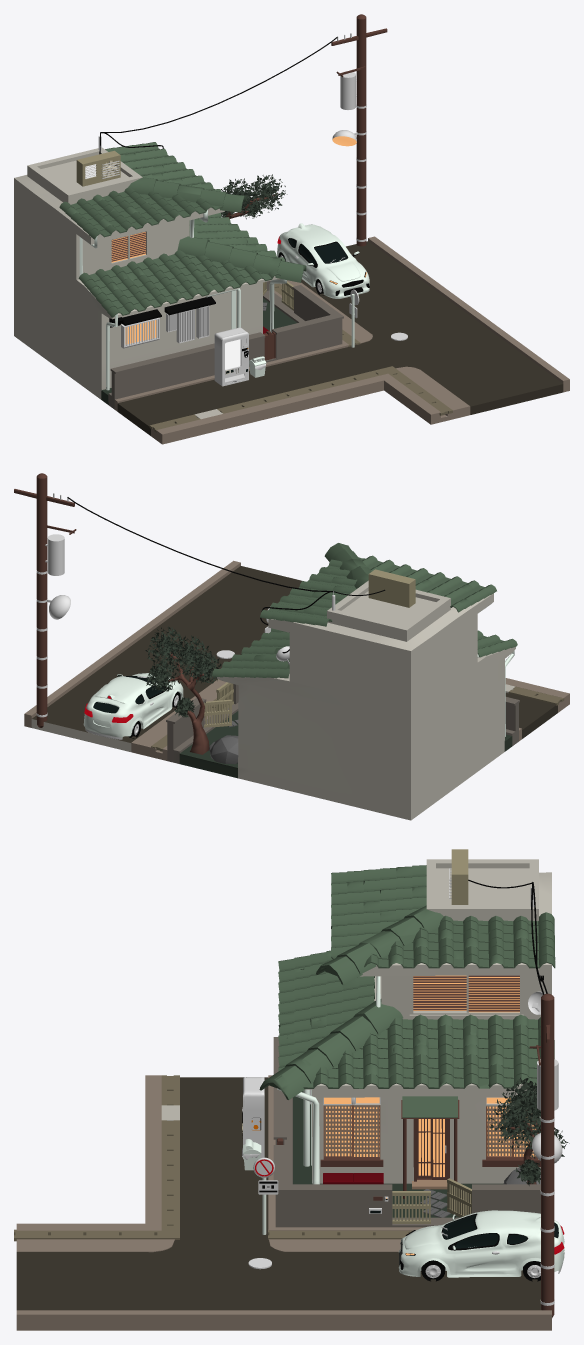
File: LinkTreeModel.glb
3 views of the same model, one above another, from view 1: azimuth 30°, elevation 25°; view 2: azimuth 150°, elevation 25°; view 3: azimuth 270°, elevation 25° (orthographic). The views are drawn at different scales.
Parts seen in each view (by area): view 1: Plane, Cylinder.012, Cylinder.014, Car, Cylinder.004, Ducts, Cylinder.015, Cylinder.020, Dispenser, Cylinder.021, Cylinder.013, Cube.034 (+5 smaller); view 2: Plane, Car, Cylinder.004, Cylinder.015, Cylinder.014, Cylinder.013, Cube.034, Cube.038, Cylinder.021, Cylinder.005, Plane.010, RockBig (+3 smaller); view 3: Plane, Cylinder.013, Car, Cylinder.015, Cylinder.012, Cylinder.014, Ducts, Cylinder.004, Cylinder.020, Cylinder.021, Cube.052, Plane.003 (+12 smaller).
Part boxes in pixels (box(x1,y1,x2,y2)): Plane: box(14, 147, 569, 444); Cylinder.012: box(78, 250, 280, 317); Cylinder.014: box(59, 187, 223, 239); Car: box(276, 223, 369, 298); Cylinder.004: box(331, 14, 387, 246); Ducts: box(149, 366, 452, 432); Cylinder.015: box(105, 142, 221, 191); Cylinder.020: box(177, 236, 306, 282); Dispenser: box(214, 327, 248, 386); Cylinder.021: box(128, 177, 246, 212); Cylinder.013: box(189, 213, 285, 261); Cube.034: box(76, 150, 120, 186); Plane: box(24, 560, 569, 820); Car: box(83, 673, 183, 739); Cylinder.004: box(14, 473, 76, 727); Cylinder.015: box(260, 559, 357, 626); Cylinder.014: box(358, 555, 496, 612); Cylinder.013: box(212, 628, 289, 678); Cube.034: box(368, 569, 415, 607); Cube.038: box(162, 646, 209, 754); Cylinder.021: box(324, 543, 371, 588); Cylinder.005: box(45, 534, 64, 575); Plane.010: box(204, 699, 231, 727); RockBig: box(210, 735, 238, 764); Plane: box(16, 859, 551, 1330); Cylinder.013: box(303, 1014, 554, 1088); Car: box(398, 1210, 564, 1281); Cylinder.015: box(364, 912, 555, 968); Cylinder.012: box(278, 950, 374, 1070); Cylinder.014: box(331, 865, 426, 959); Ducts: box(14, 1075, 179, 1241); Cylinder.004: box(529, 993, 554, 1317); Cylinder.020: box(259, 999, 403, 1099); Cylinder.021: box(316, 905, 443, 984); Cube.052: box(401, 1096, 459, 1198); Plane.003: box(468, 975, 519, 1011).
Bounding box in the file's own units: 3.78 × 2.33 × 3.57.
